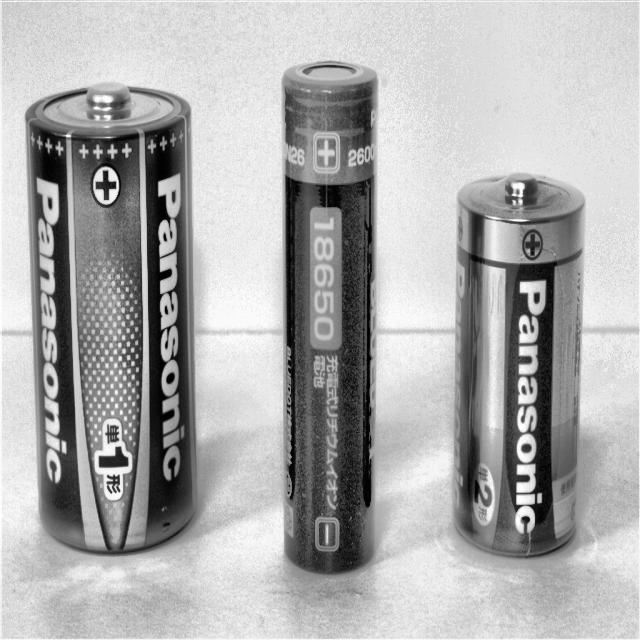drycell: (27, 76, 200, 552), (280, 55, 388, 582), (452, 165, 591, 564)
